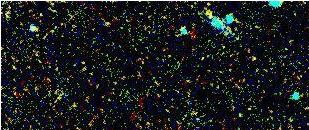star: (196, 5, 226, 35)
